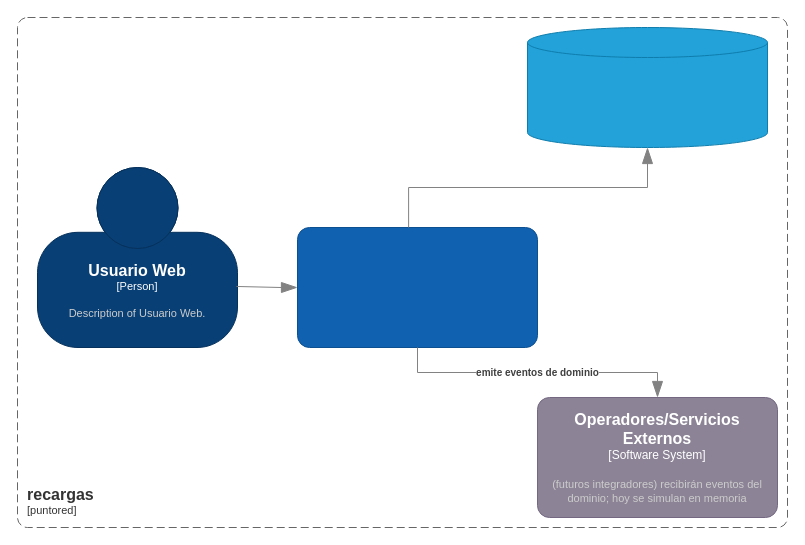
Some shapes in this 805 by 545 pixel diagram are drawn without their labels. The shapes that lost their labels are listed below. From the top down, each one's centre as x and y in pixels, then its label:
At point 647,87: "Transacciones de recarga [Container: SQLite] Database transacciones en conjunto".
At point 417,287: "API de Recargas [Software System] API de Recargas (NestJS)\REST + JWT".
